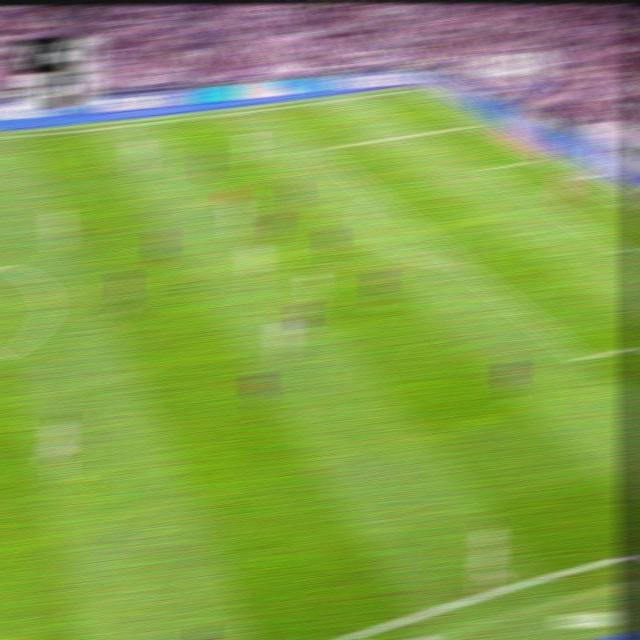bigarea_bottom_inner: (571, 345, 593, 369)
bigarea_top_inner: (311, 143, 326, 155)
bottom_arc_area_intersection: (455, 257, 476, 275)
corner: (401, 86, 418, 93)
smallarea_top_inner: (479, 164, 493, 173)
top_arc_area_intersection: (368, 187, 385, 202)
